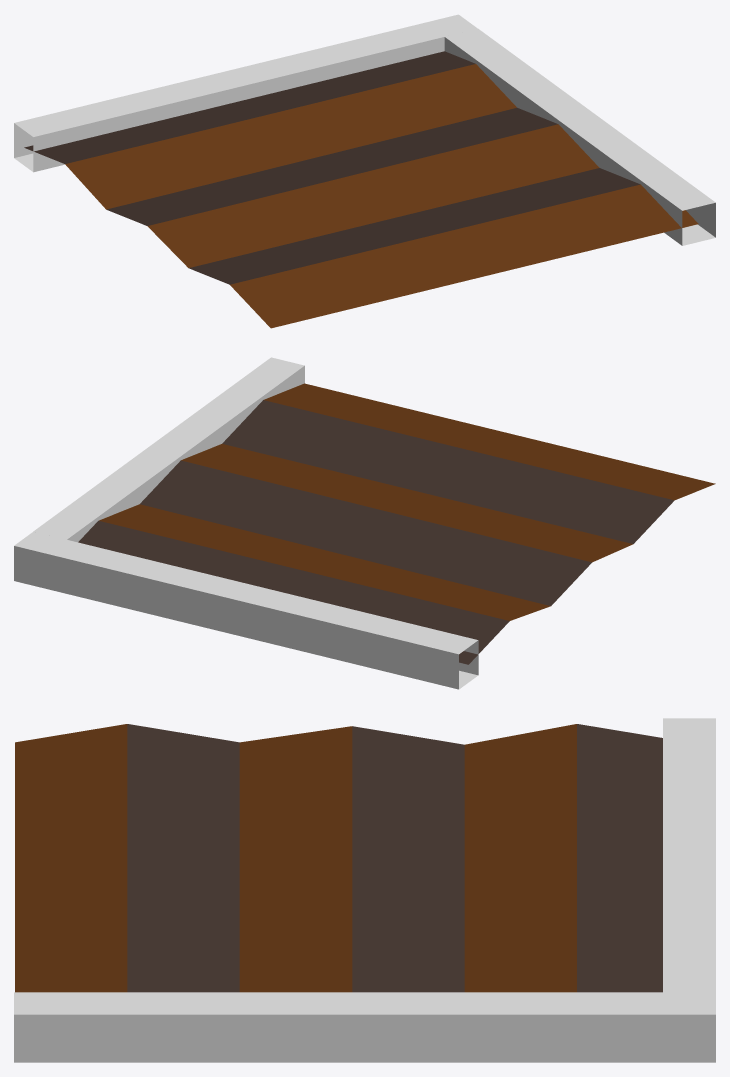
File: FarmCorner.fbx
The picture shows the model from 3 angles, top to bottom: view 1: azimuth 30°, elevation 25°; view 2: azimuth 150°, elevation 25°; view 3: azimuth 270°, elevation 25°; orthographic projection. The views are drawn at different scales.
Visible parts, largest first — view 1: Plane.001, Cube.006, Cube.004; view 2: Plane.001, Cube.006, Cube.004; view 3: Plane.001, Cube.004, Cube.006.
Boxes of the visible parts, x1,y1,x2,y2 form: Plane.001: [24, 51, 698, 328]; Cube.006: [14, 14, 477, 172]; Cube.004: [444, 28, 715, 245]; Plane.001: [78, 383, 715, 664]; Cube.006: [14, 531, 478, 689]; Cube.004: [33, 357, 304, 542]; Plane.001: [15, 724, 662, 992]; Cube.004: [14, 992, 662, 1062]; Cube.006: [663, 718, 715, 1062].
Bounding box in the file's own units: 104 × 7.86 × 104.
